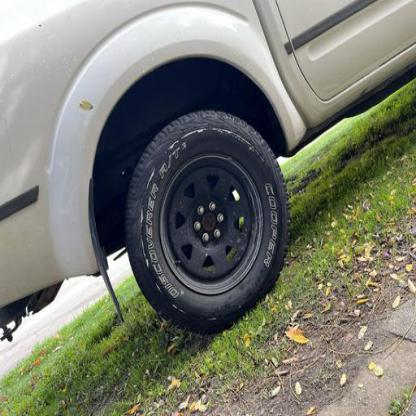Tire: (125, 108, 290, 334)
